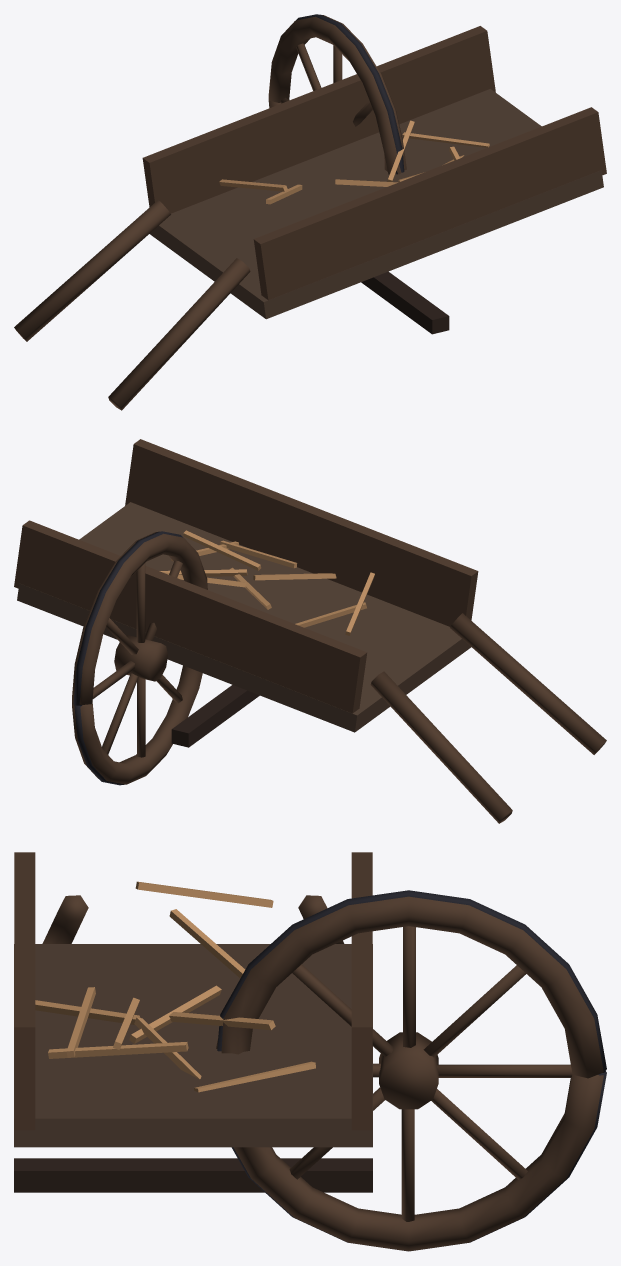
Rendered from cart_broken.glb.
3 views of the same model, one above another, from view 1: azimuth 30°, elevation 25°; view 2: azimuth 150°, elevation 25°; view 3: azimuth 270°, elevation 25° (orthographic). The views are drawn at different scales.
Visible parts, largest first — view 1: cart_broken; view 2: cart_broken; view 3: cart_broken.
Part boxes in pixels (bbox=[...]): cart_broken: bbox=[14, 14, 606, 410]; cart_broken: bbox=[14, 439, 606, 823]; cart_broken: bbox=[14, 852, 606, 1251].
Size of the model in its own units: 1.42 by 0.6628 by 0.9913.
